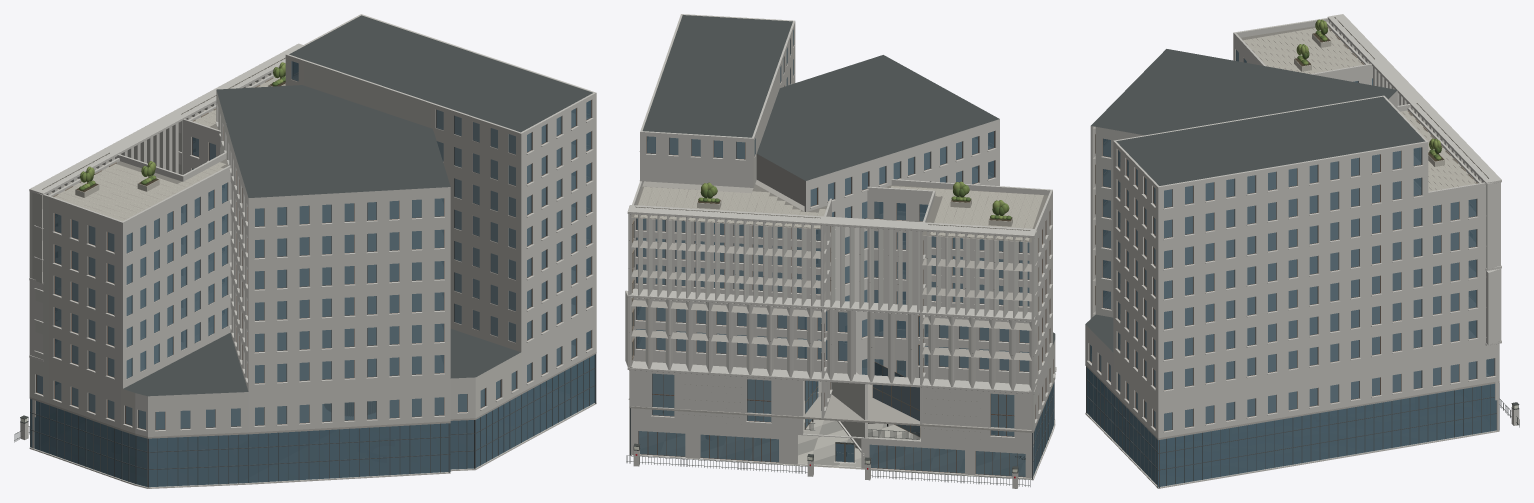
The model's file is mar-exterior-c7fe1a8a749e.glb.
3 renders of one model, left to right at view 1: azimuth 30°, elevation 25°; view 2: azimuth 150°, elevation 25°; view 3: azimuth 270°, elevation 25°, orthographic. The views are drawn at different scales.
Visible parts, largest first — view 1: MAR.001; view 2: MAR.001; view 3: MAR.001.
Part boxes in pixels (x1,y1,x2,y2): MAR.001: [14, 14, 596, 488]; MAR.001: [625, 14, 1056, 488]; MAR.001: [1085, 14, 1519, 488].
Bounding box in the file's own units: 68.52 × 42.8 × 55.77.
